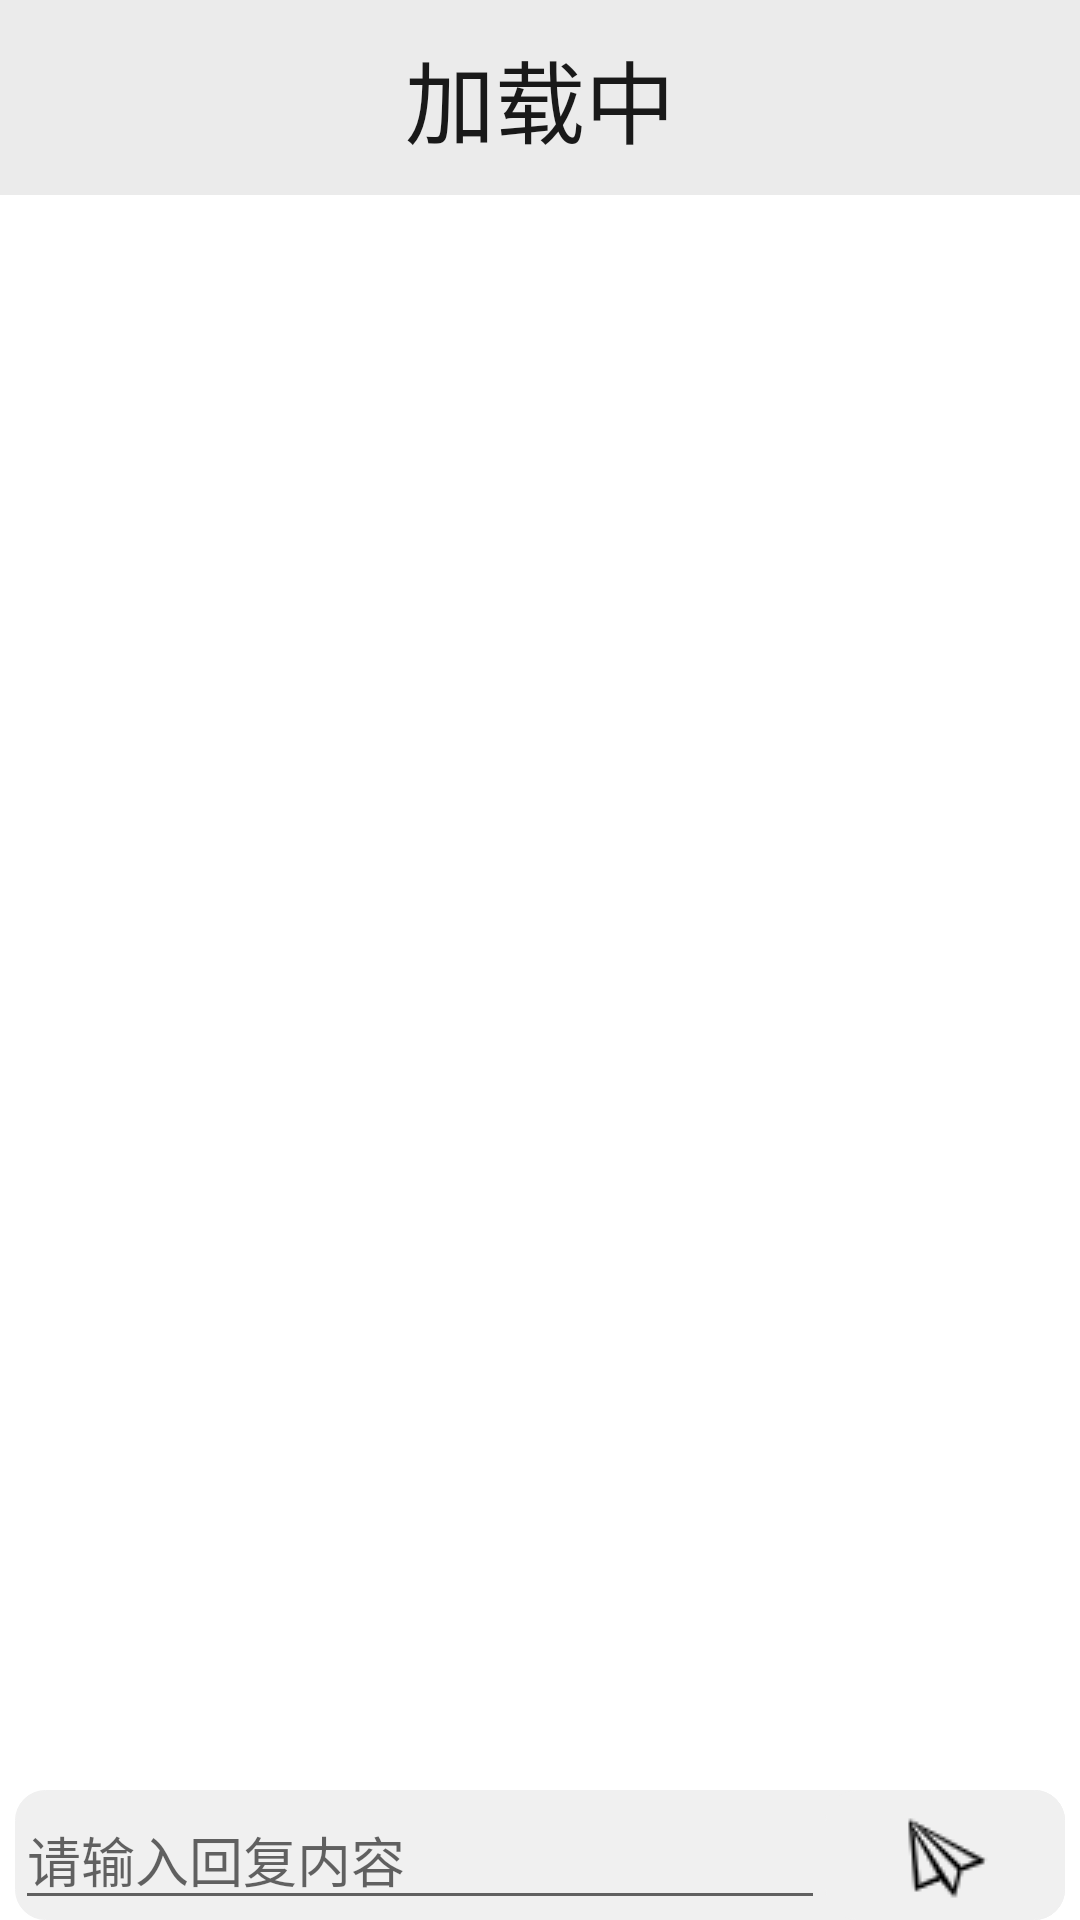

Icons on this 1080*1920 Android screen, each with its box as bbox=(x1, y1, x2, y2):
send: bbox=(908, 1818, 985, 1898)
